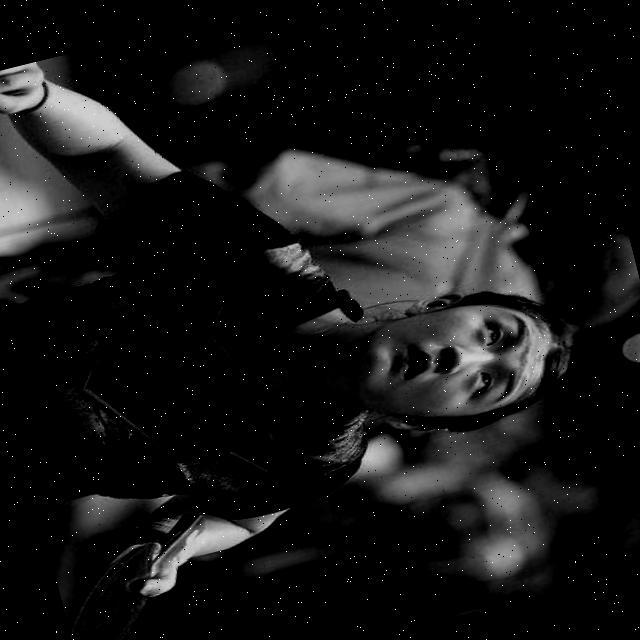ping-pong-ball: (612, 328, 640, 375)
